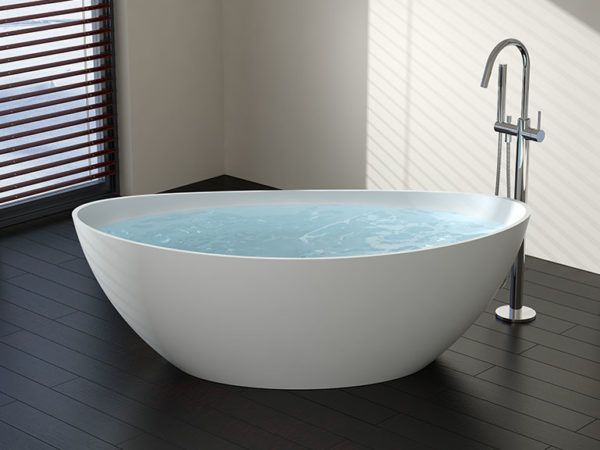bathub: (65, 181, 536, 392)
